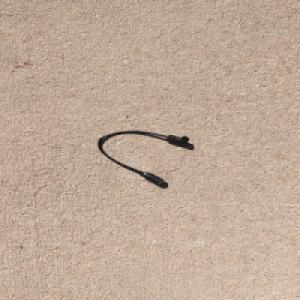Wire: (97, 129, 190, 184)
